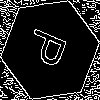P: (25, 25, 76, 74)
